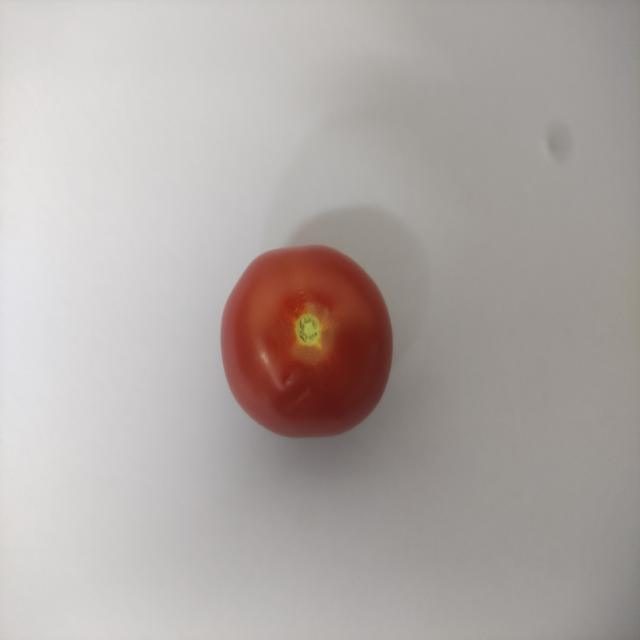kirmizi: (204, 238, 408, 446)
